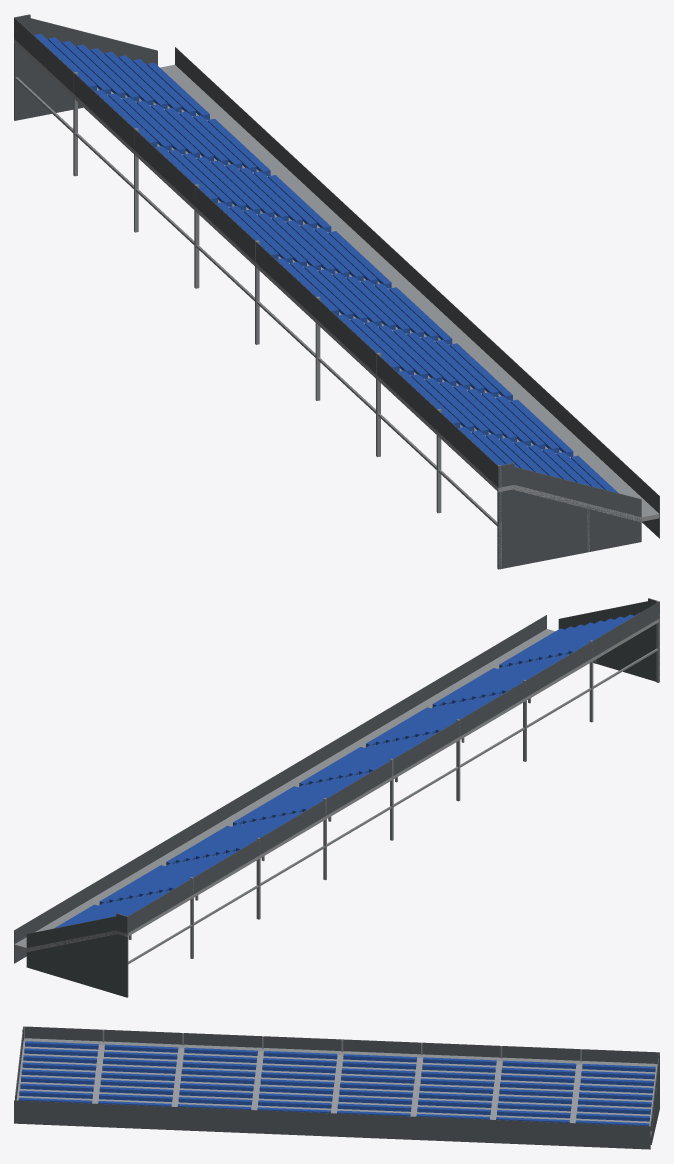
The model's file is mza_stand_ascari.glb.
3 renders of one model, top to bottom at view 1: azimuth 30°, elevation 25°; view 2: azimuth 150°, elevation 25°; view 3: azimuth 270°, elevation 25°, orthographic. The views are drawn at different scales.
Visible parts, largest first — view 1: monza-ascari; view 2: monza-ascari; view 3: monza-ascari.
Part boxes in pixels (<box>): monza-ascari: <box>14,14,659,569</box>; monza-ascari: <box>14,598,659,997</box>; monza-ascari: <box>14,1026,659,1149</box>.
Size of the model in its own units: 14.85 by 5.84 by 60.7.
